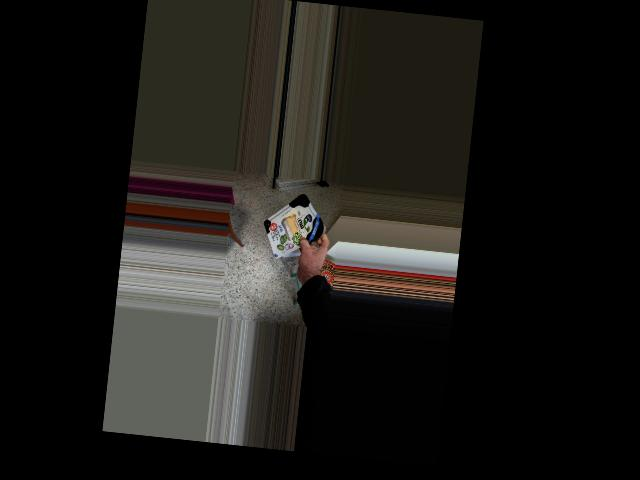cheese: (254, 191, 330, 258)
